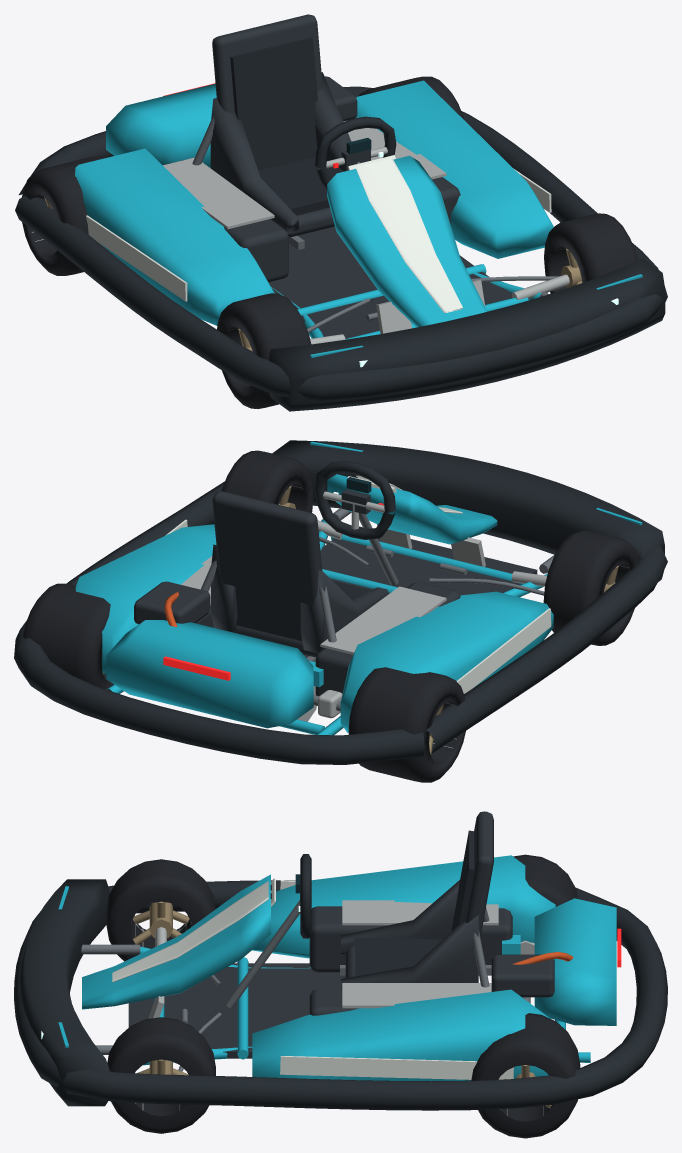
The model's file is photon-lod.glb.
The picture shows the model from 3 angles, top to bottom: view 1: azimuth 30°, elevation 25°; view 2: azimuth 150°, elevation 25°; view 3: azimuth 270°, elevation 25°; orthographic projection.
Parts seen in each view (by area): view 1: paint, Moulded bumper polymer (×3), Satin composite, Slick vulcanised rubber (×4), Seat fabric, Livery ivory, Brushed alloy, Steel fasteners; view 2: Moulded bumper polymer (×3), paint, Satin composite (×2), Slick vulcanised rubber (×4), Brushed alloy (×2), Steel fasteners, Livery ivory, brake_light; view 3: paint, Moulded bumper polymer (×3), Satin composite, Slick vulcanised rubber (×4), Livery ivory, Brushed alloy, Seat fabric, Steel fasteners (×2), Magnesium wheel centres.
Boxes of the visible parts, x1,y1,x2,y2 form: paint: (75,80,553,339); Moulded bumper polymer (×3): (15,86,667,411); Satin composite: (167,14,512,338); Slick vulcanised rubber (×4): (22,76,637,408); Seat fabric: (230,37,343,215); Livery ivory: (86,158,551,312); Brushed alloy: (163,117,569,344); Steel fasteners: (192,116,558,332); Moulded bumper polymer (×3): (14,440,667,764); paint: (75,474,553,735); Satin composite (×2): (134,489,537,695); Slick vulcanised rubber (×4): (23,450,639,782); Brushed alloy (×2): (181,491,546,721); Steel fasteners: (200,513,544,711); Livery ivory: (165,475,551,693); brake_light: (163,656,230,680); paint: (82,855,616,1081); Moulded bumper polymer (×3): (14,854,667,1110); Satin composite: (128,811,554,1058); Slick vulcanised rubber (×4): (106,854,580,1138); Livery ivory: (112,880,513,1079); Brushed alloy: (149,900,534,1018); Seat fabric: (355,830,474,976); Steel fasteners (×2): (81,900,530,1074); Magnesium wheel centres: (133,901,189,944).
Size of the model in its own units: 2.17 by 1.01 by 2.8.
